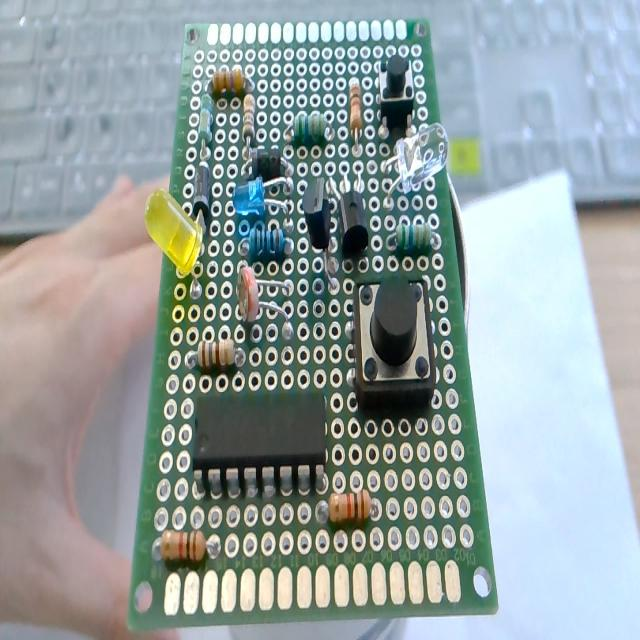IC: (181, 390, 333, 500)
cds: (233, 269, 299, 343)
diode: (238, 147, 298, 176), (190, 157, 213, 215)
led: (138, 188, 204, 295), (378, 119, 452, 208), (230, 174, 300, 228)
resistor: (150, 525, 228, 567), (311, 489, 387, 532), (184, 334, 250, 374), (279, 110, 339, 150), (382, 221, 448, 256), (238, 224, 296, 260), (345, 73, 367, 163), (204, 62, 261, 94), (235, 96, 265, 152), (194, 90, 216, 156)
switch: (348, 272, 446, 425), (374, 51, 422, 118)
transistor: (302, 170, 340, 306), (332, 166, 373, 260)
